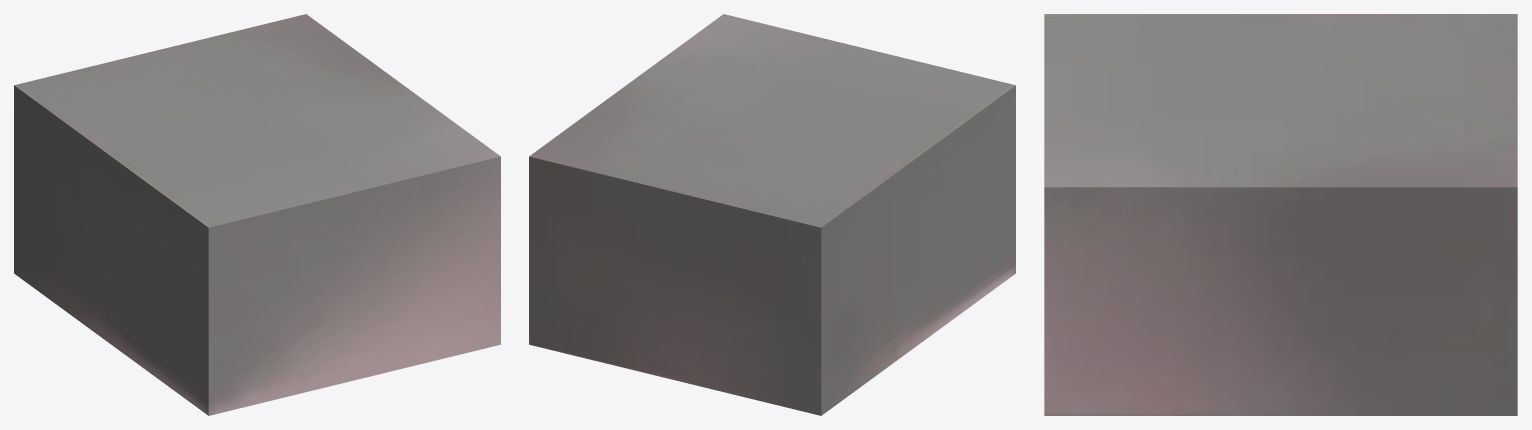
File: frame__support_pivot_ear_0.glb
The picture shows the model from 3 angles, left to right: view 1: azimuth 30°, elevation 25°; view 2: azimuth 150°, elevation 25°; view 3: azimuth 270°, elevation 25°; orthographic projection. The views are drawn at different scales.
Visible parts, largest first — view 1: world; view 2: world; view 3: world.
Part boxes in pixels (x1,y1,x2,y2): world: [14, 14, 500, 415]; world: [529, 14, 1015, 415]; world: [1044, 14, 1517, 415].
Bounding box in the file's own units: 0.052 × 0.032 × 0.06.
1 material, 1 textured.
